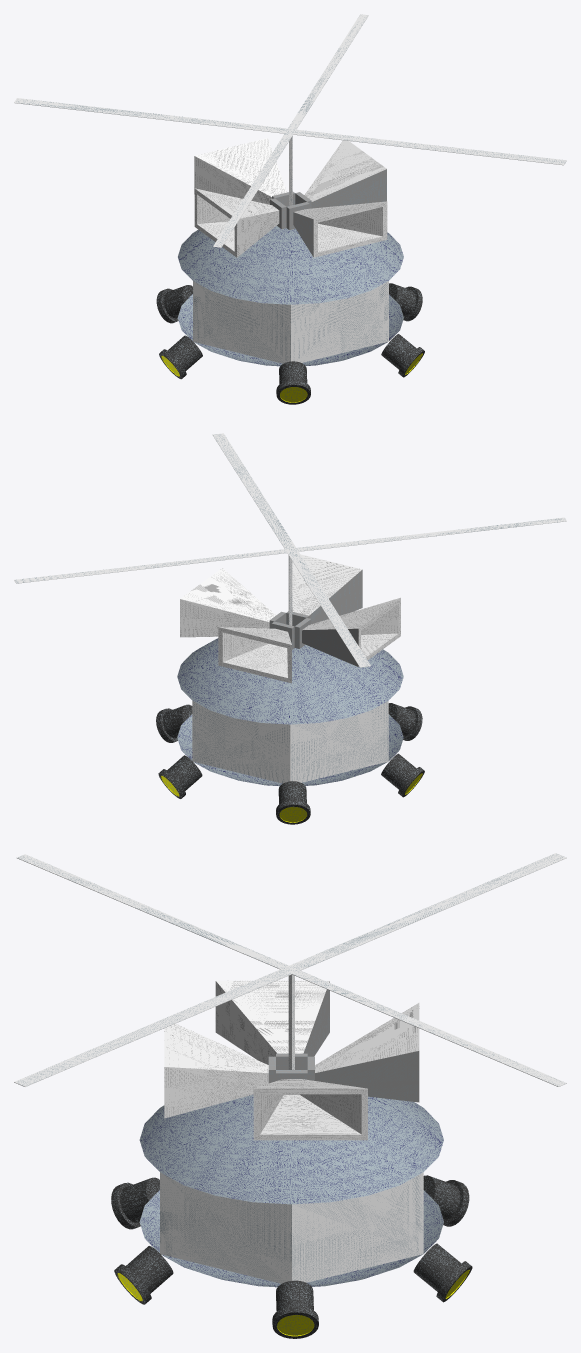
Rendered from DronFBX.fbx.
3 views of the same model, one above another, from view 1: azimuth 30°, elevation 25°; view 2: azimuth 150°, elevation 25°; view 3: azimuth 270°, elevation 25° (orthographic). The views are drawn at different scales.
Visible parts, largest first — view 1: Group1, Group4, Altavoz2, Altavoz4, Altavoz1, Altavoz3, Foco6, Foco3, Foco5, Foco2, Foco4; view 2: Group1, Group4, Altavoz1, Altavoz3, Altavoz4, Altavoz2, Foco2, Foco1, Foco3, Foco4, Foco6; view 3: Group1, Group4, Altavoz3, Altavoz1, Altavoz2, Altavoz4, Foco4, Foco5, Foco1, Foco6, Foco2.
Part boxes in pixels (x1,y1,x2,y2): Group1: [178, 225, 403, 366]; Group4: [14, 14, 566, 247]; Altavoz2: [286, 201, 387, 257]; Altavoz4: [194, 138, 295, 206]; Altavoz1: [295, 140, 386, 208]; Altavoz3: [194, 188, 286, 257]; Foco6: [276, 361, 310, 404]; Foco3: [159, 335, 202, 379]; Foco5: [381, 334, 424, 377]; Foco2: [156, 285, 192, 323]; Foco4: [389, 283, 422, 321]; Group1: [177, 638, 403, 786]; Group4: [14, 433, 566, 667]; Altavoz1: [180, 568, 286, 637]; Altavoz3: [294, 597, 400, 666]; Altavoz4: [218, 621, 294, 683]; Altavoz2: [286, 554, 362, 626]; Foco2: [276, 781, 310, 824]; Foco1: [158, 755, 202, 798]; Foco3: [381, 753, 424, 797]; Foco4: [156, 704, 192, 742]; Foco6: [388, 703, 422, 740]; Group1: [139, 1094, 443, 1287]; Group4: [14, 853, 566, 1086]; Altavoz3: [215, 980, 329, 1069]; Altavoz1: [253, 1070, 367, 1140]; Altavoz2: [164, 1023, 275, 1118]; Altavoz4: [307, 1003, 419, 1102]; Foco4: [272, 1280, 318, 1338]; Foco5: [114, 1246, 173, 1304]; Foco1: [413, 1243, 472, 1302]; Foco6: [111, 1177, 159, 1229]; Foco2: [423, 1175, 469, 1226].
Size of the model in its own units: 43.54 by 25.5 by 43.54.
